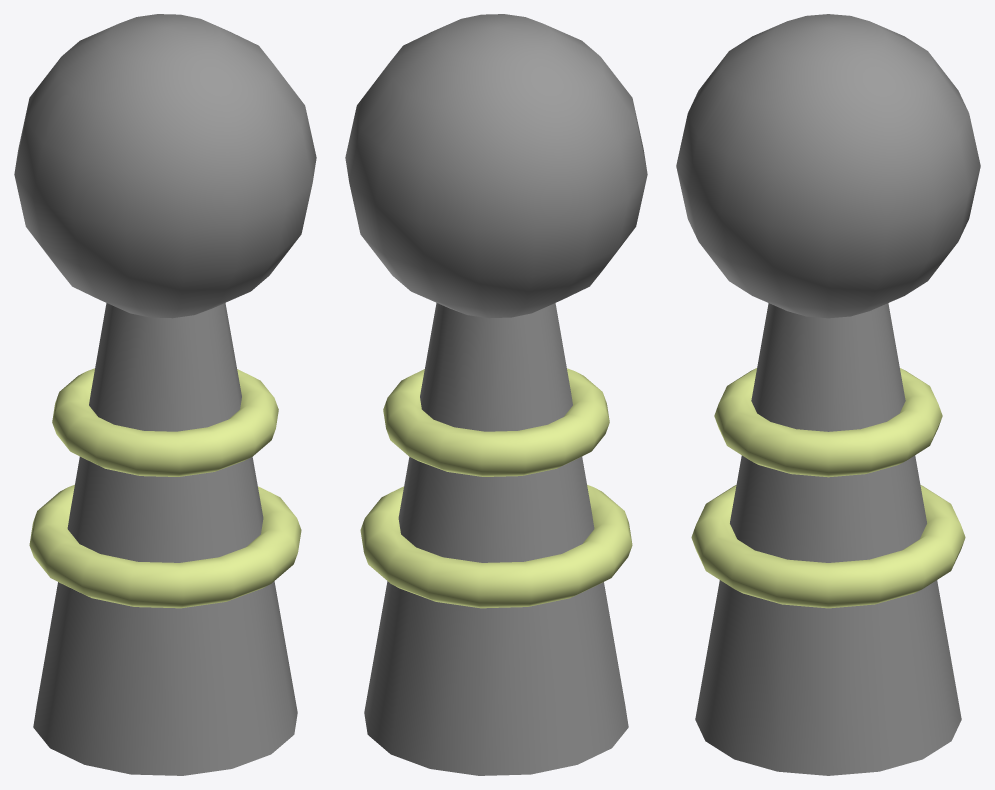
The model's file is denki.FBX.
The picture shows the model from 3 angles, left to right: view 1: azimuth 30°, elevation 25°; view 2: azimuth 150°, elevation 25°; view 3: azimuth 270°, elevation 25°; orthographic projection.
Parts seen in each view (by area): view 1: denki; view 2: denki; view 3: denki.
Boxes of the visible parts, box(x1,y1,x2,y2) form: denki: box(14, 14, 316, 775); denki: box(345, 14, 647, 775); denki: box(676, 14, 980, 775).
Size of the model in its own units: 80 by 200 by 80.
